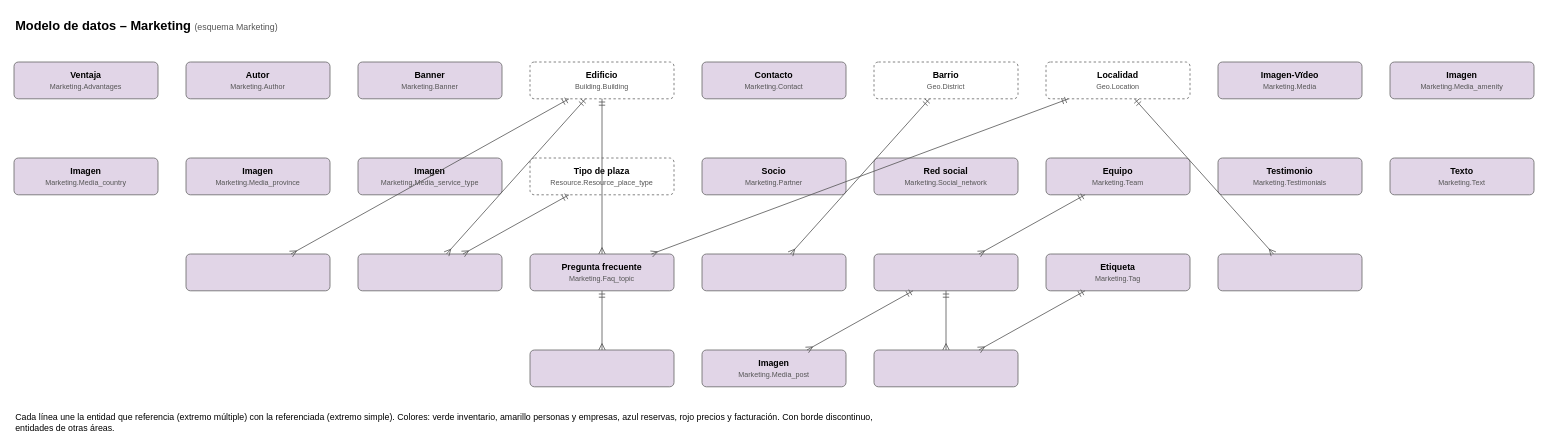
The diagram is 1548 pixels wide and 448 high, and some of its shapes have lost their labels. The shapes that lost their labels are listed below. From the top down, each one's box as (x1, y1, x2, y2) in pixels, then its label:
(185, 253, 330, 291): Imagen Marketing.Media_building
(357, 253, 502, 291): Imagen Marketing.Media_resource_type
(701, 253, 846, 291): Imagen Marketing.Media_district
(873, 253, 1018, 291): Post Marketing.Post
(1217, 253, 1362, 291): Imagen Marketing.Media_location
(529, 349, 674, 387): Pregunta frecuente Marketing.Faq_question
(873, 349, 1018, 387): Etiqueta Marketing.Post_tag
